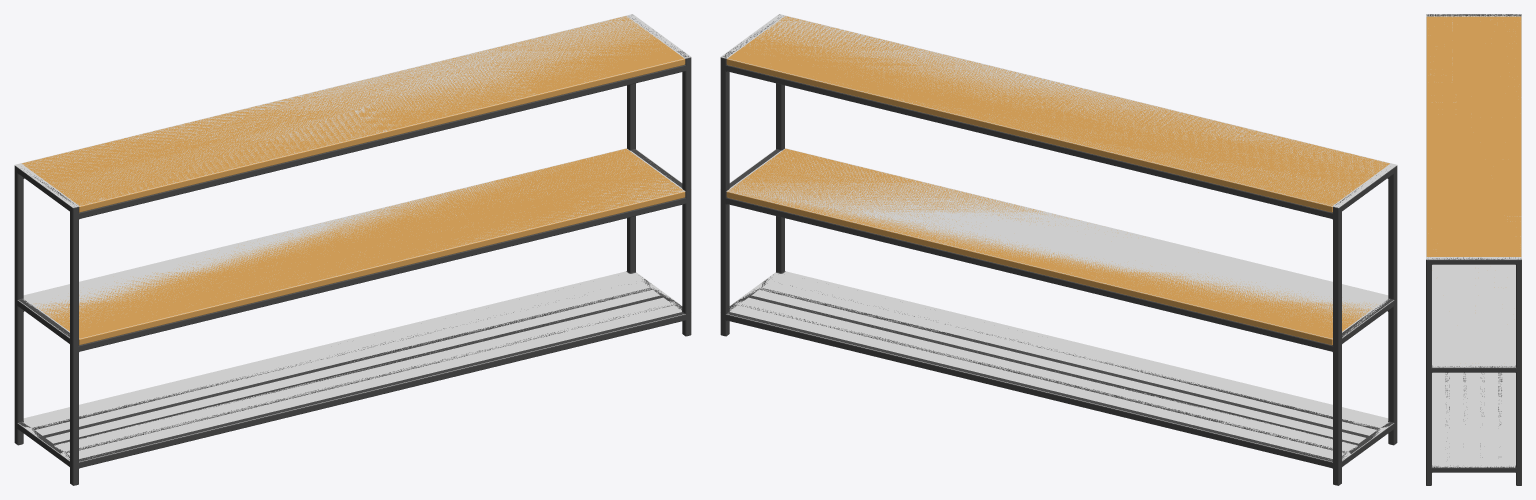
File: iron-frame-shelf-3.glb
3 views of the same model, side by side, from view 1: azimuth 30°, elevation 25°; view 2: azimuth 150°, elevation 25°; view 3: azimuth 270°, elevation 25° (orthographic). The views are drawn at different scales.
Parts seen in each view (by area): view 1: Board.005, Board.004, __TOP__Plane.005, Frame3.001, __TOP__Plane.007, __TOP__Plane.006; view 2: Board.005, Frame3.001, __TOP__Plane.005, __TOP__Plane.006, Board.004, __TOP__Plane.007; view 3: Board.005, __TOP__Plane.006, __TOP__Plane.005, Frame3.001, __TOP__Plane.007.
Boxes of the visible parts, box(x1,y1,x2,y2) form: Board.005: box(22, 16, 685, 212); Board.004: box(35, 148, 685, 345); __TOP__Plane.005: box(18, 271, 685, 462); Frame3.001: box(14, 18, 691, 485); __TOP__Plane.007: box(15, 14, 691, 207); __TOP__Plane.006: box(18, 148, 685, 339); Board.005: box(726, 16, 1389, 212); Frame3.001: box(720, 14, 1397, 485); __TOP__Plane.005: box(726, 271, 1393, 462); __TOP__Plane.006: box(726, 148, 1393, 339); Board.004: box(726, 148, 1376, 345); __TOP__Plane.007: box(720, 14, 1396, 207); Board.005: box(1426, 16, 1521, 256); __TOP__Plane.006: box(1432, 264, 1515, 367); __TOP__Plane.005: box(1432, 372, 1515, 467); Frame3.001: box(1426, 14, 1521, 485); __TOP__Plane.007: box(1426, 14, 1521, 259).
Size of what is drawn, in the model's own units: 2 by 0.86 by 0.33.
